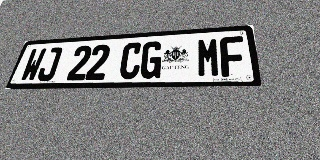2: (66, 45, 93, 81), (85, 44, 111, 80)
C: (118, 42, 143, 79)
F: (220, 36, 247, 77)
G: (139, 41, 163, 79)
J: (36, 47, 63, 81)
M: (197, 37, 221, 78)
W: (19, 48, 47, 82)
